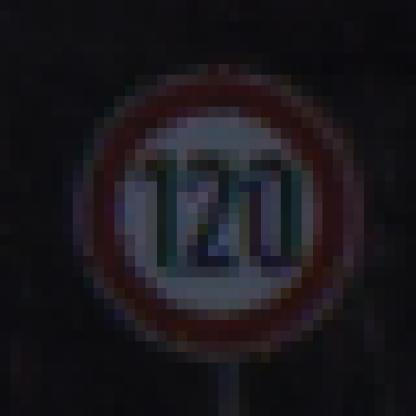Speed Limit 120: (89, 78, 352, 352)
